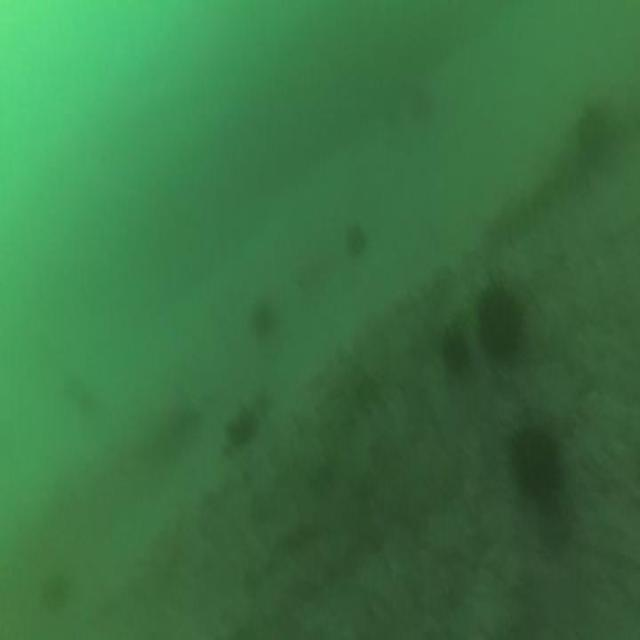echinus: (506, 414, 562, 515), (475, 281, 526, 370), (572, 98, 614, 172), (223, 396, 263, 454), (36, 566, 74, 622), (439, 321, 472, 374), (246, 292, 276, 340), (341, 217, 368, 266)
